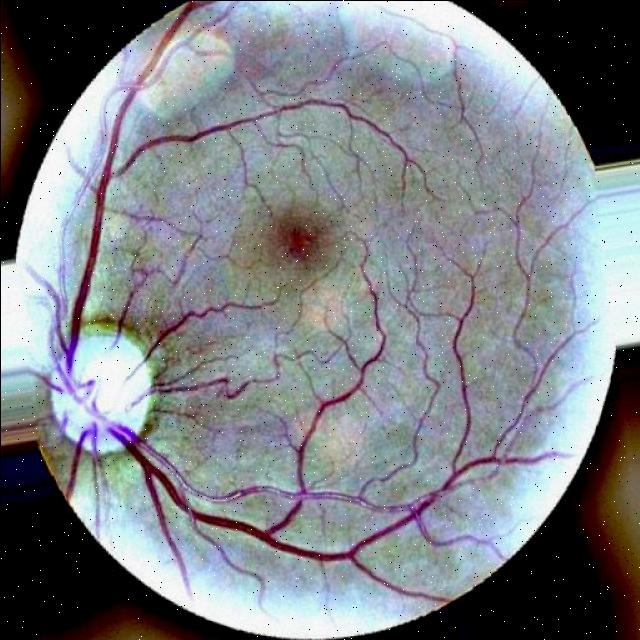Macula: (269, 211, 334, 276)
Nerves: (30, 1, 500, 595), (119, 99, 410, 174), (291, 278, 384, 481), (121, 302, 235, 385), (122, 371, 200, 411), (175, 471, 260, 500)
Optic Disk: (51, 324, 152, 452)
